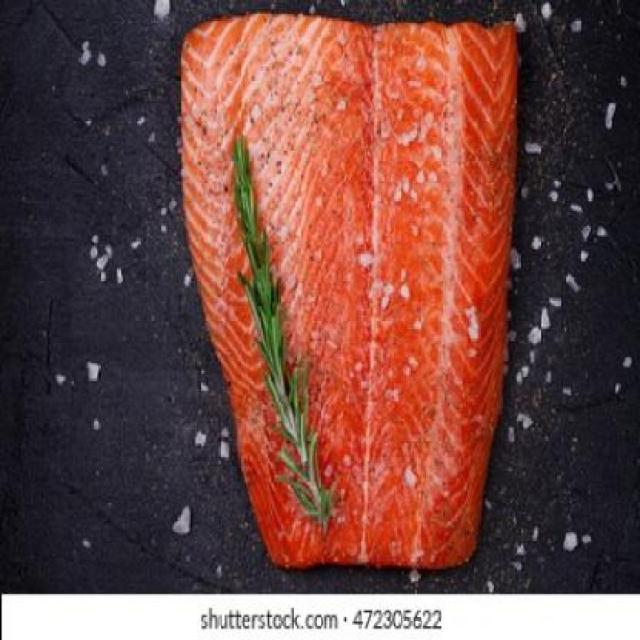salmon: (172, 9, 533, 574)
